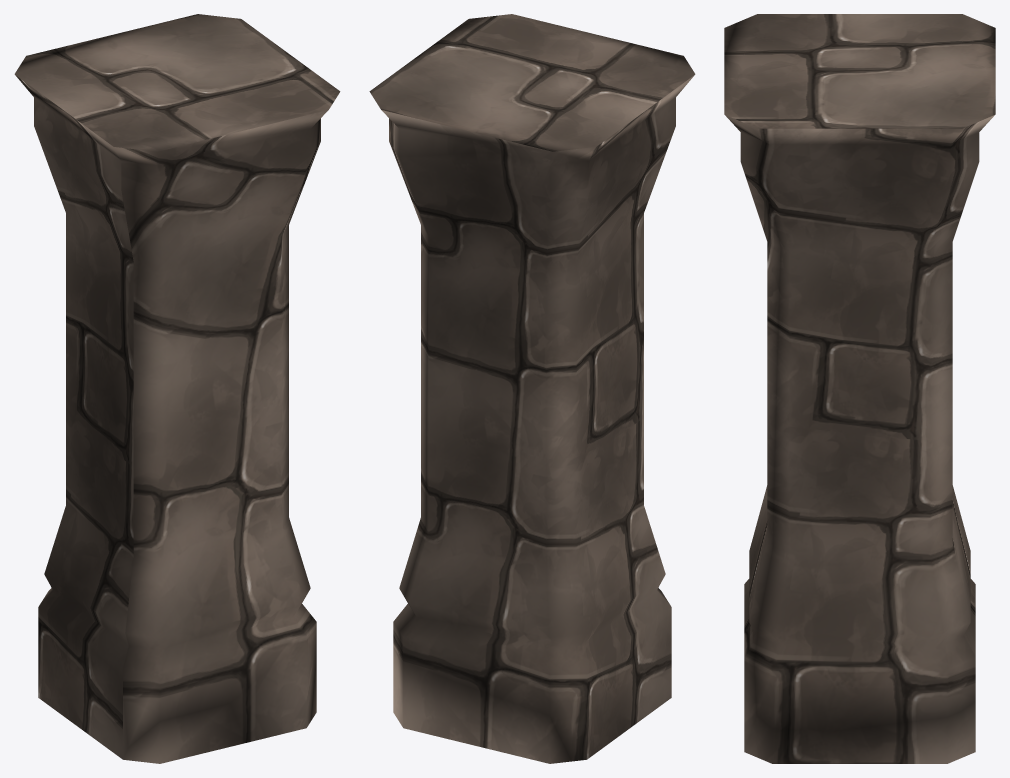
The model's file is Pillar.obj.
3 renders of one model, left to right at view 1: azimuth 30°, elevation 25°; view 2: azimuth 150°, elevation 25°; view 3: azimuth 270°, elevation 25°, orthographic. The views are drawn at different scales.
Parts seen in each view (by area): view 1: Cube; view 2: Cube; view 3: Cube.
Boxes of the visible parts, <box> form: Cube: <box>14,14,340,763</box>; Cube: <box>369,14,695,763</box>; Cube: <box>724,14,995,763</box>.
Bounding box in the file's own units: 2.92 × 7.65 × 2.92.
